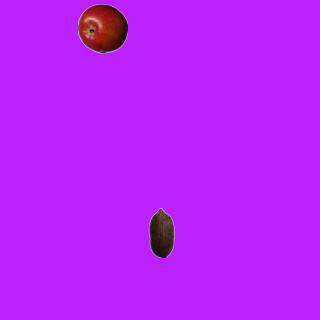Apple Braeburn: (77, 3, 127, 53)
Nut Pecan: (136, 207, 186, 257)
